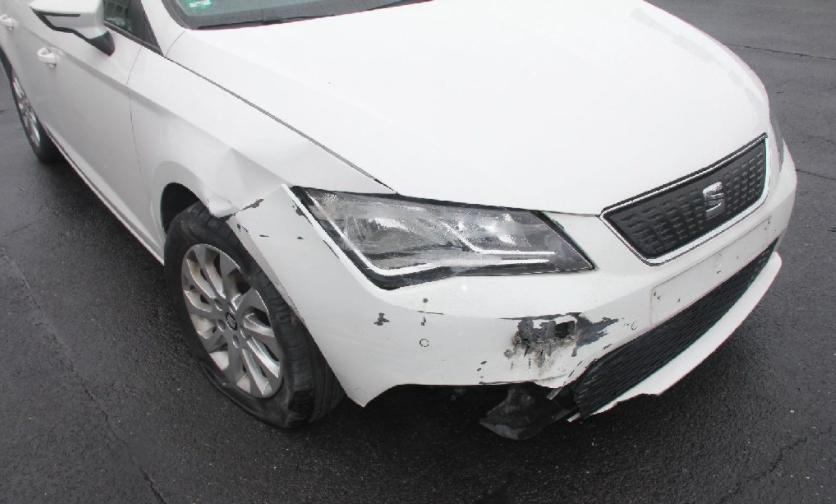Back-door: (1, 0, 36, 115)
Back-wheel: (5, 62, 61, 162)
Fender: (126, 47, 397, 264)
Front-bumper: (219, 126, 799, 439)
Front-door: (29, 0, 164, 259)
Front-wheel: (164, 207, 345, 431)
Front-window: (103, 4, 165, 59)
Grille: (600, 136, 767, 258)
Headlight: (291, 188, 595, 293), (772, 105, 784, 170)
Hood: (165, 0, 772, 213)
License-plate: (651, 221, 769, 327)
Mirror: (30, 1, 115, 56)
Rocker-panel: (46, 126, 165, 266)
Windshield: (168, 0, 431, 31)
